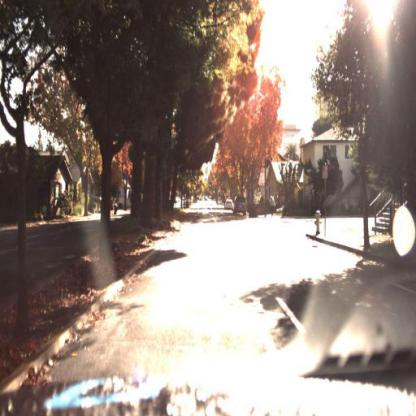car: (232, 198, 249, 220), (223, 198, 236, 214)
pedestrian: (269, 190, 278, 222), (269, 195, 278, 220)
